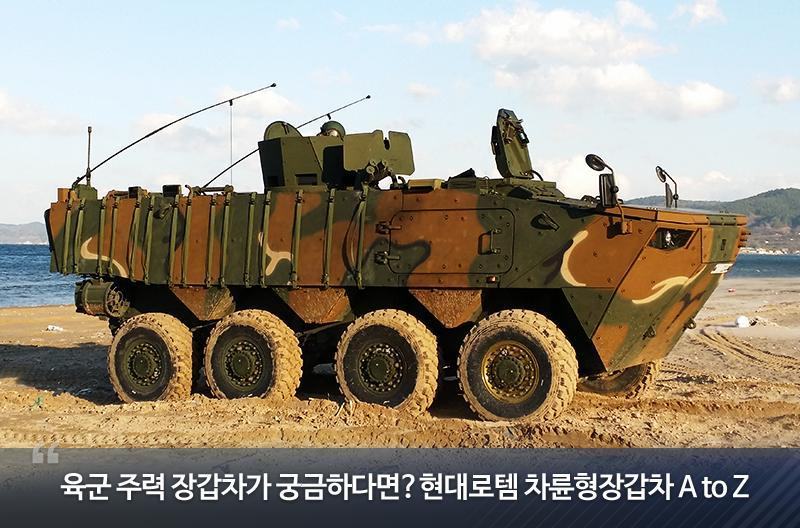MIL_IFV: (44, 93, 748, 420)
